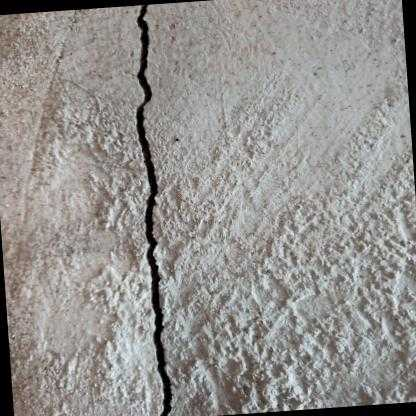crack: (135, 4, 173, 416)
